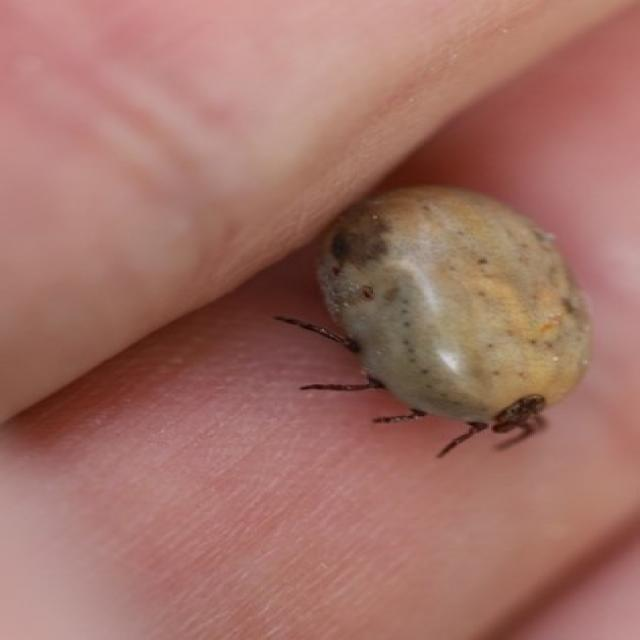Dermacentor Reticulatus-F-Fed: (273, 180, 595, 457)
